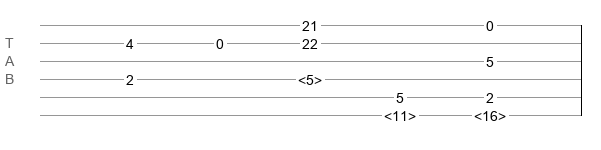0: (216, 36, 224, 46), (486, 18, 494, 28)
2: (126, 72, 134, 82), (486, 90, 494, 100)
21: (302, 18, 318, 28)
22: (302, 36, 318, 46)
4: (126, 36, 134, 46)
5: (396, 90, 404, 100), (486, 54, 494, 64)
harmonic: (384, 108, 416, 118), (474, 108, 506, 118), (298, 72, 322, 82)
